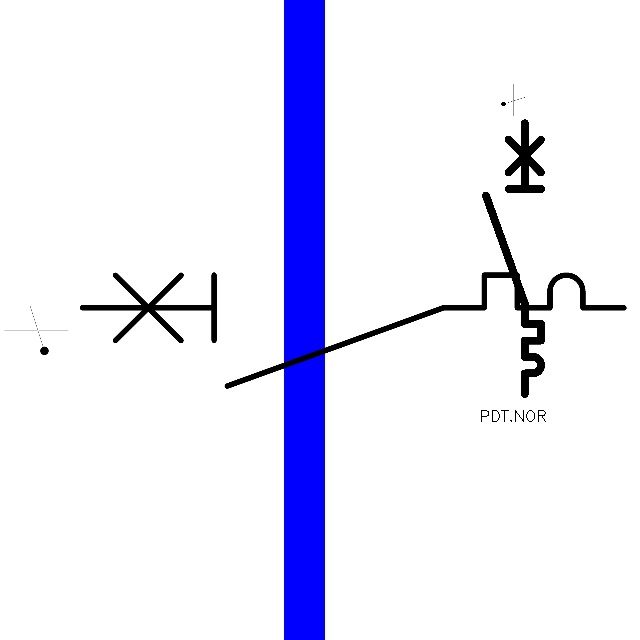interruptor_termomagnetico: (68, 261, 638, 400), (479, 116, 548, 401)
